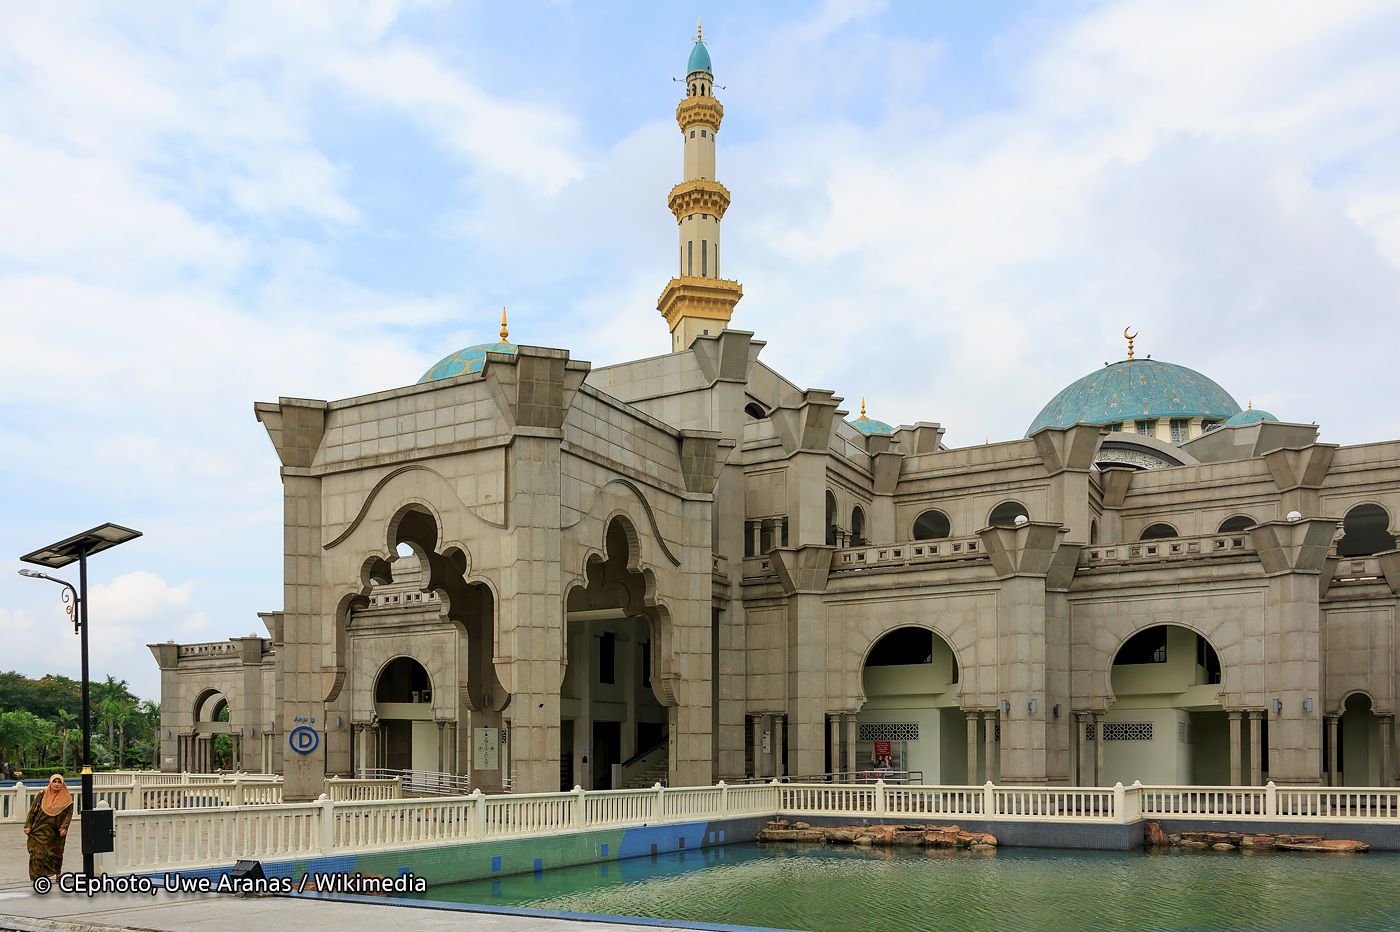Mosque: (255, 20, 1383, 763)
